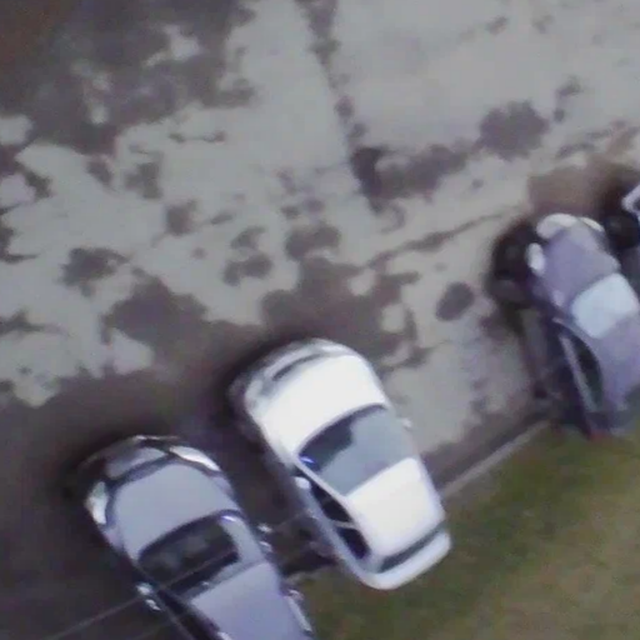car: (228, 334, 454, 590), (65, 434, 321, 640), (493, 210, 640, 436)
